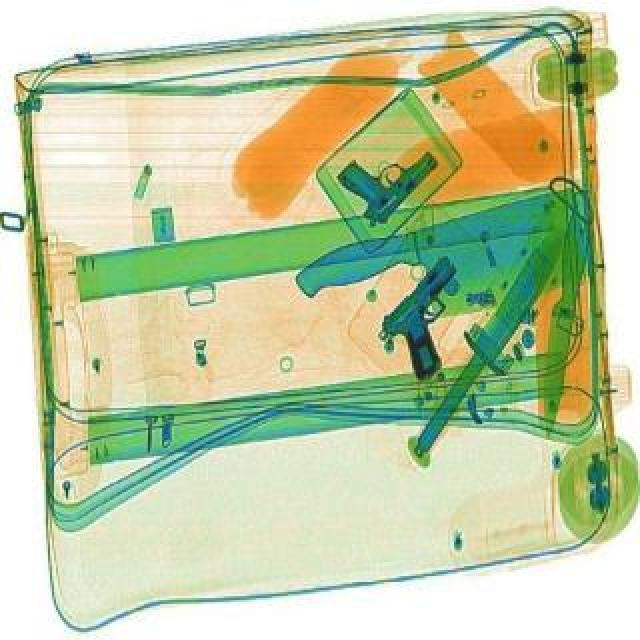gun: (366, 254, 506, 386), (326, 124, 444, 236)
knife: (290, 188, 606, 352), (408, 222, 580, 470), (536, 200, 600, 440)
